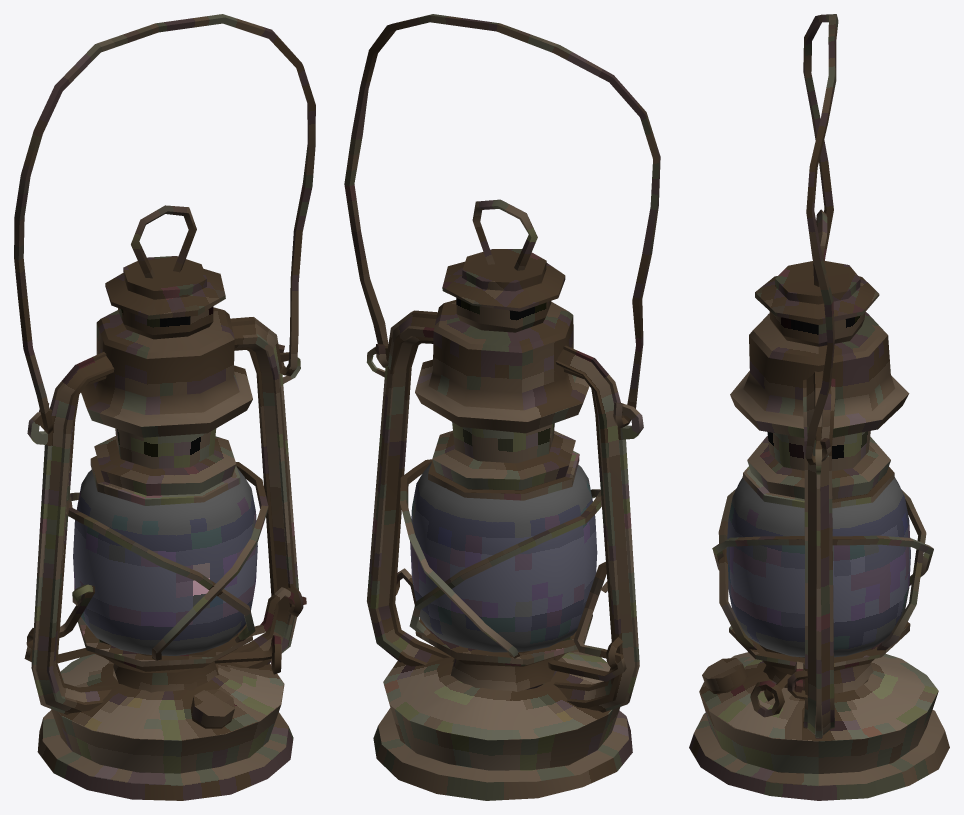
File: Lamp.fbx
3 views of the same model, side by side, from view 1: azimuth 30°, elevation 25°; view 2: azimuth 150°, elevation 25°; view 3: azimuth 270°, elevation 25° (orthographic). The views are drawn at different scales.
Visible parts, largest first — view 1: Lamp; view 2: Lamp; view 3: Lamp.
Boxes of the visible parts, bbox=[...] form: Lamp: bbox=[14, 14, 315, 800]; Lamp: bbox=[344, 14, 660, 800]; Lamp: bbox=[689, 14, 949, 800].
Bounding box in the file's own units: 0.2312 × 0.1745 × 0.5251.
